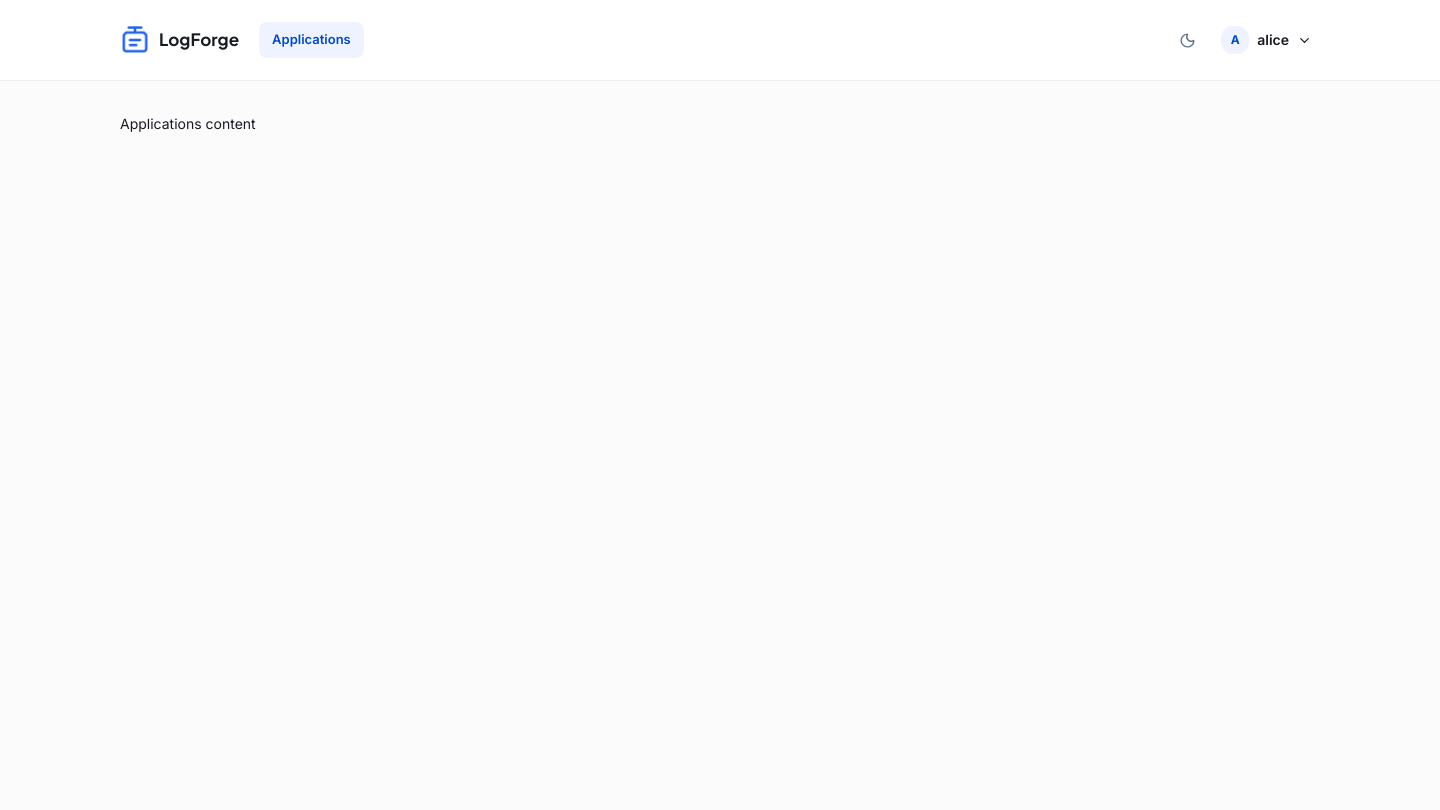
AppShell › persists theme selection and exposes account key controls
Click the button named "Switch to dark mode" at (1187, 40), box [1169, 22, 1205, 58]
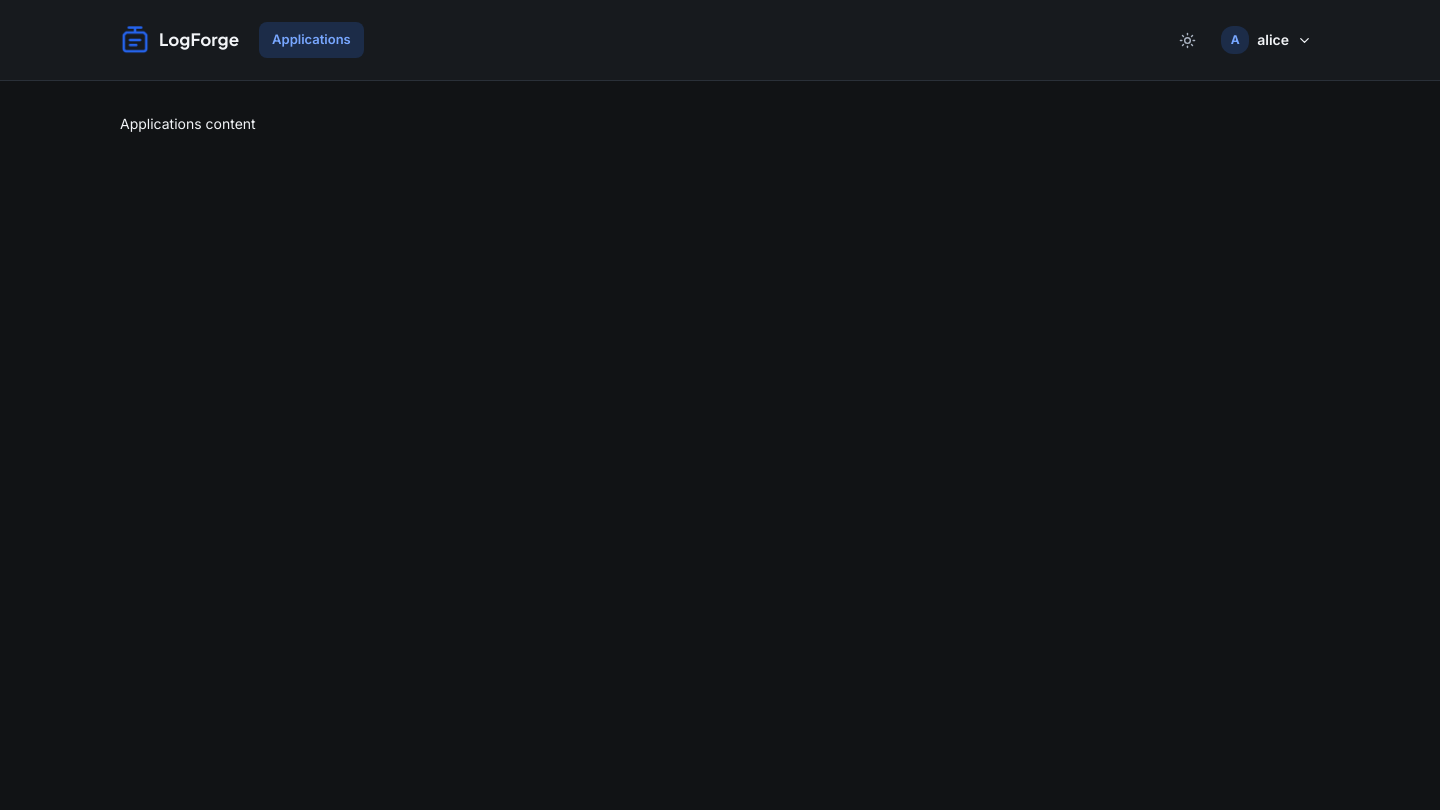
Click the button "A alice" at (1267, 40), box [1213, 21, 1320, 59]
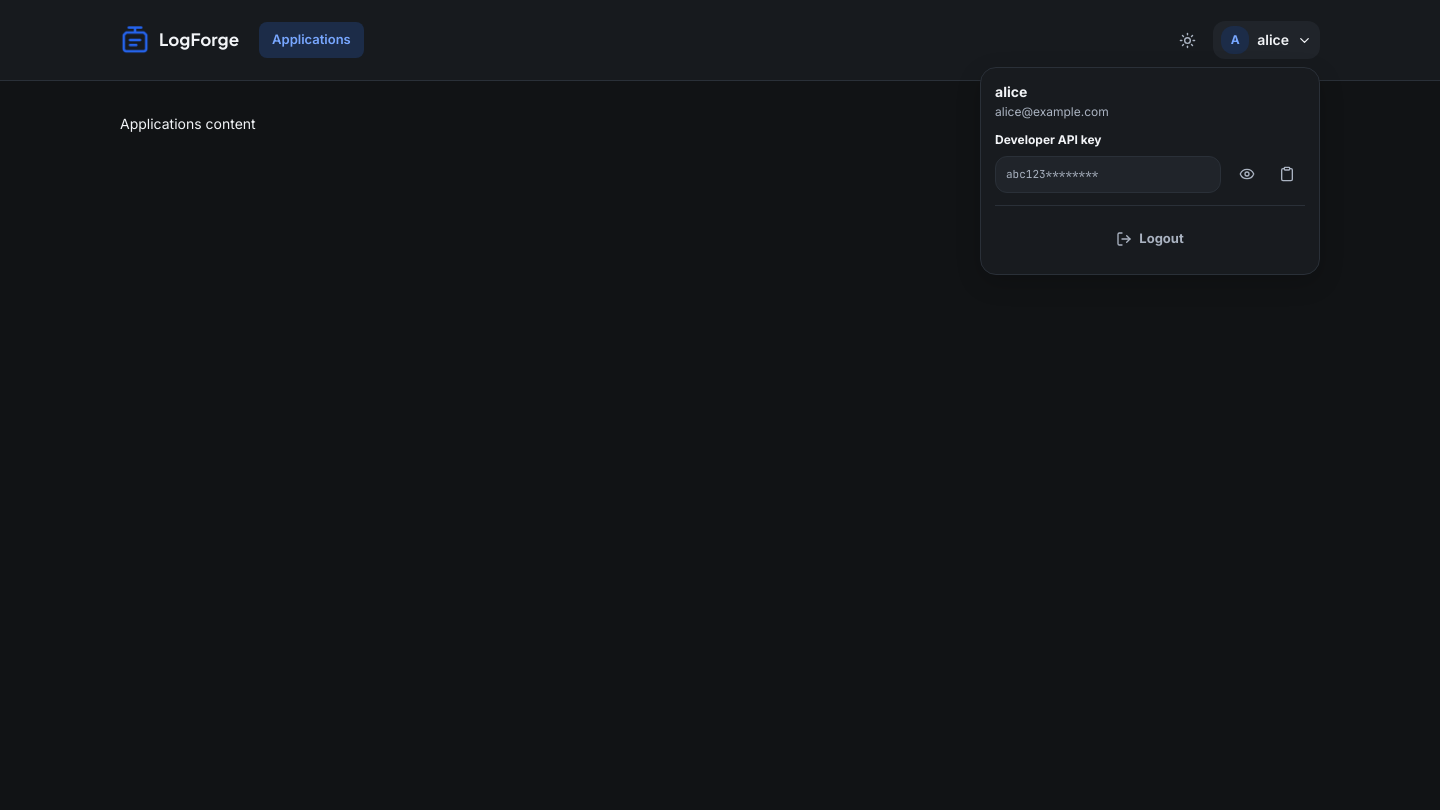
expect the text "alice@example.com" is shown: met, box [995, 104, 1109, 119]
Click the button named "Reveal API key" at (1247, 174), box [1229, 156, 1265, 192]
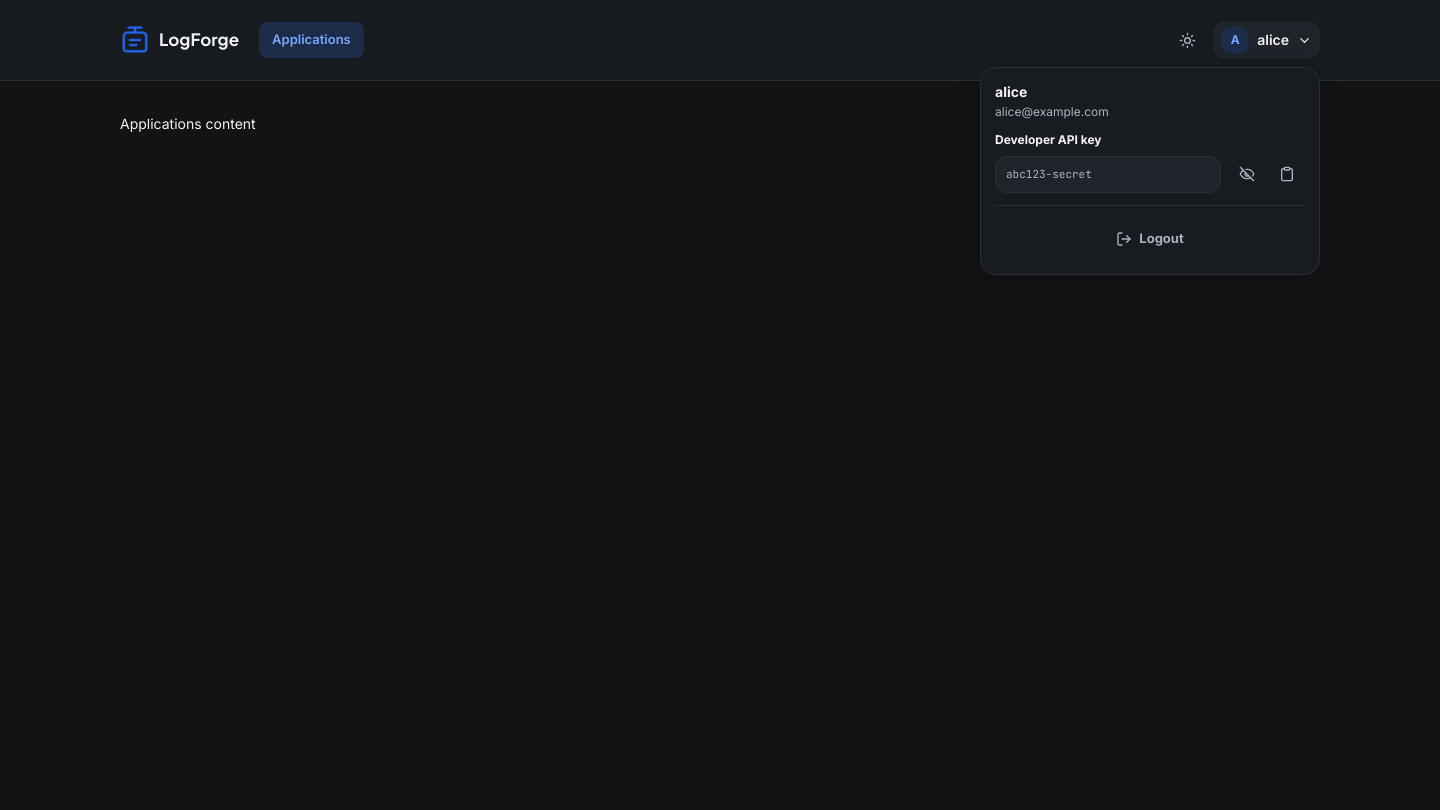
expect the text named "API key value" reads "abc123-secret": met, box [1006, 167, 1092, 181]
